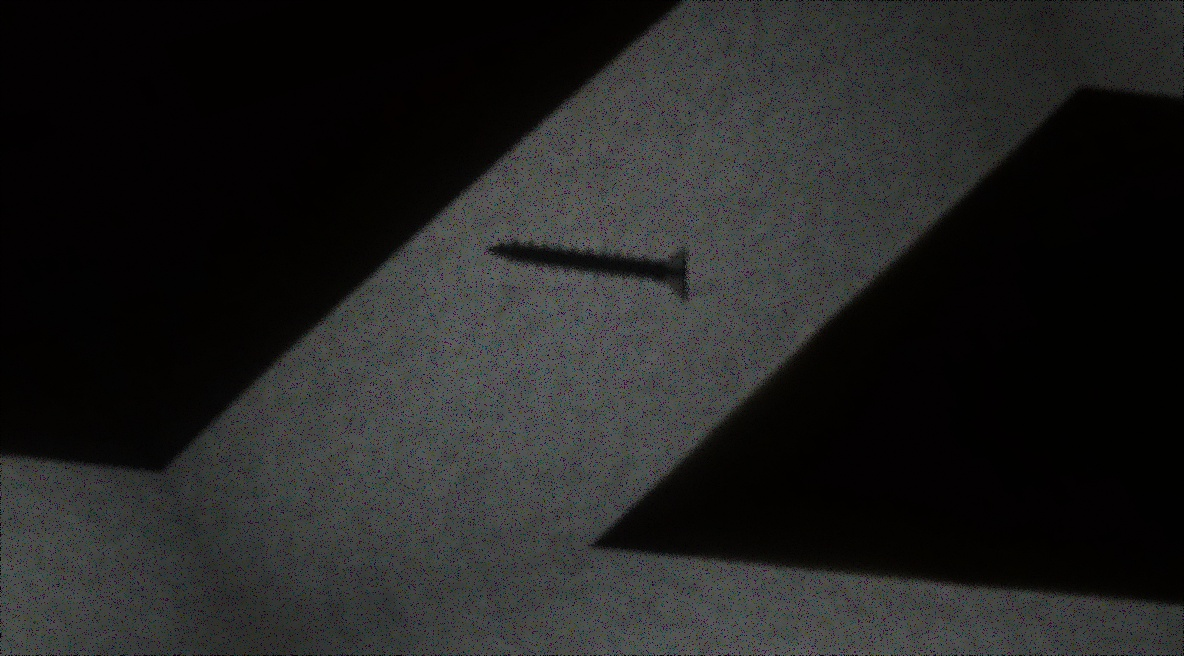S001: (455, 178, 725, 364)
